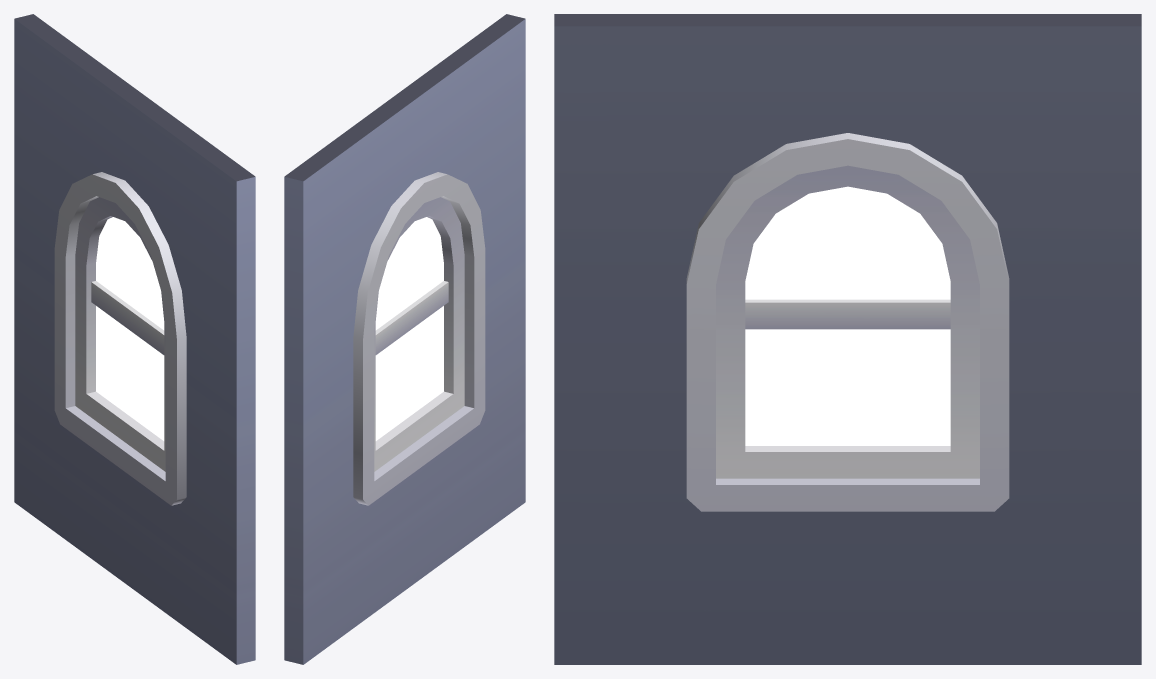
The model's file is kenney-building-wall-window-round-detailed.glb.
3 views of the same model, side by side, from view 1: azimuth 30°, elevation 25°; view 2: azimuth 150°, elevation 25°; view 3: azimuth 270°, elevation 25° (orthographic). The views are drawn at different scales.
Parts seen in each view (by area): view 1: wall-window-round-detailed, (%ignore); view 2: wall-window-round-detailed, (%ignore); view 3: wall-window-round-detailed, (%ignore).
Boxes of the visible parts, x1,y1,x2,y2 form: wall-window-round-detailed: (14,14,255,664); (%ignore): (96,217,164,440); wall-window-round-detailed: (284,14,525,664); (%ignore): (375,217,443,440); wall-window-round-detailed: (554,14,1141,664); (%ignore): (745,186,950,445).
Size of the model in its own units: 0.2001 by 2.4 by 2.
Materials: 2 (1 with a texture image).
